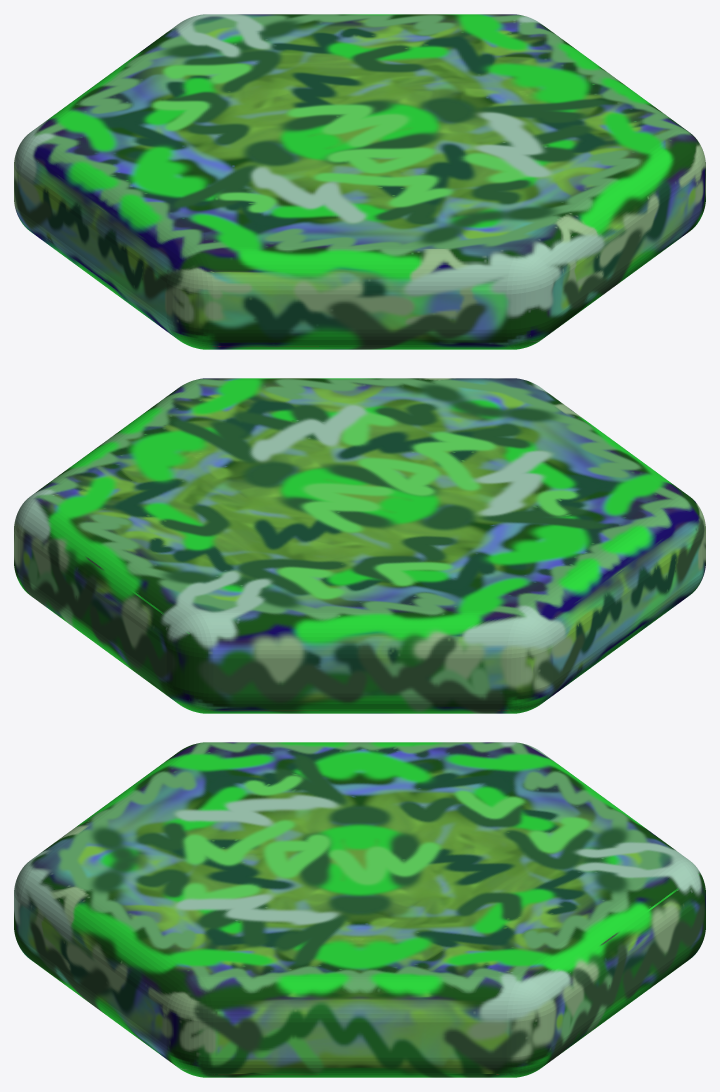
Rendered from 2grass.glb.
3 views of the same model, one above another, from view 1: azimuth 30°, elevation 25°; view 2: azimuth 150°, elevation 25°; view 3: azimuth 270°, elevation 25° (orthographic).
Parts seen in each view (by area): view 1: Circle; view 2: Circle; view 3: Circle.
Boxes of the visible parts, x1,y1,x2,y2 form: Circle: [14, 14, 705, 349]; Circle: [14, 378, 705, 713]; Circle: [14, 742, 705, 1077].
Size of the model in its own units: 1.73 by 0.3096 by 1.95.
1 material, 1 textured.
